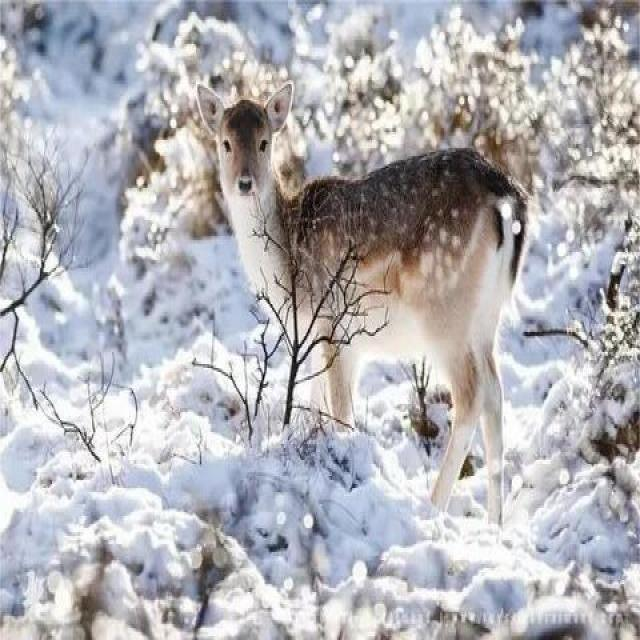deer: (171, 58, 543, 485)
